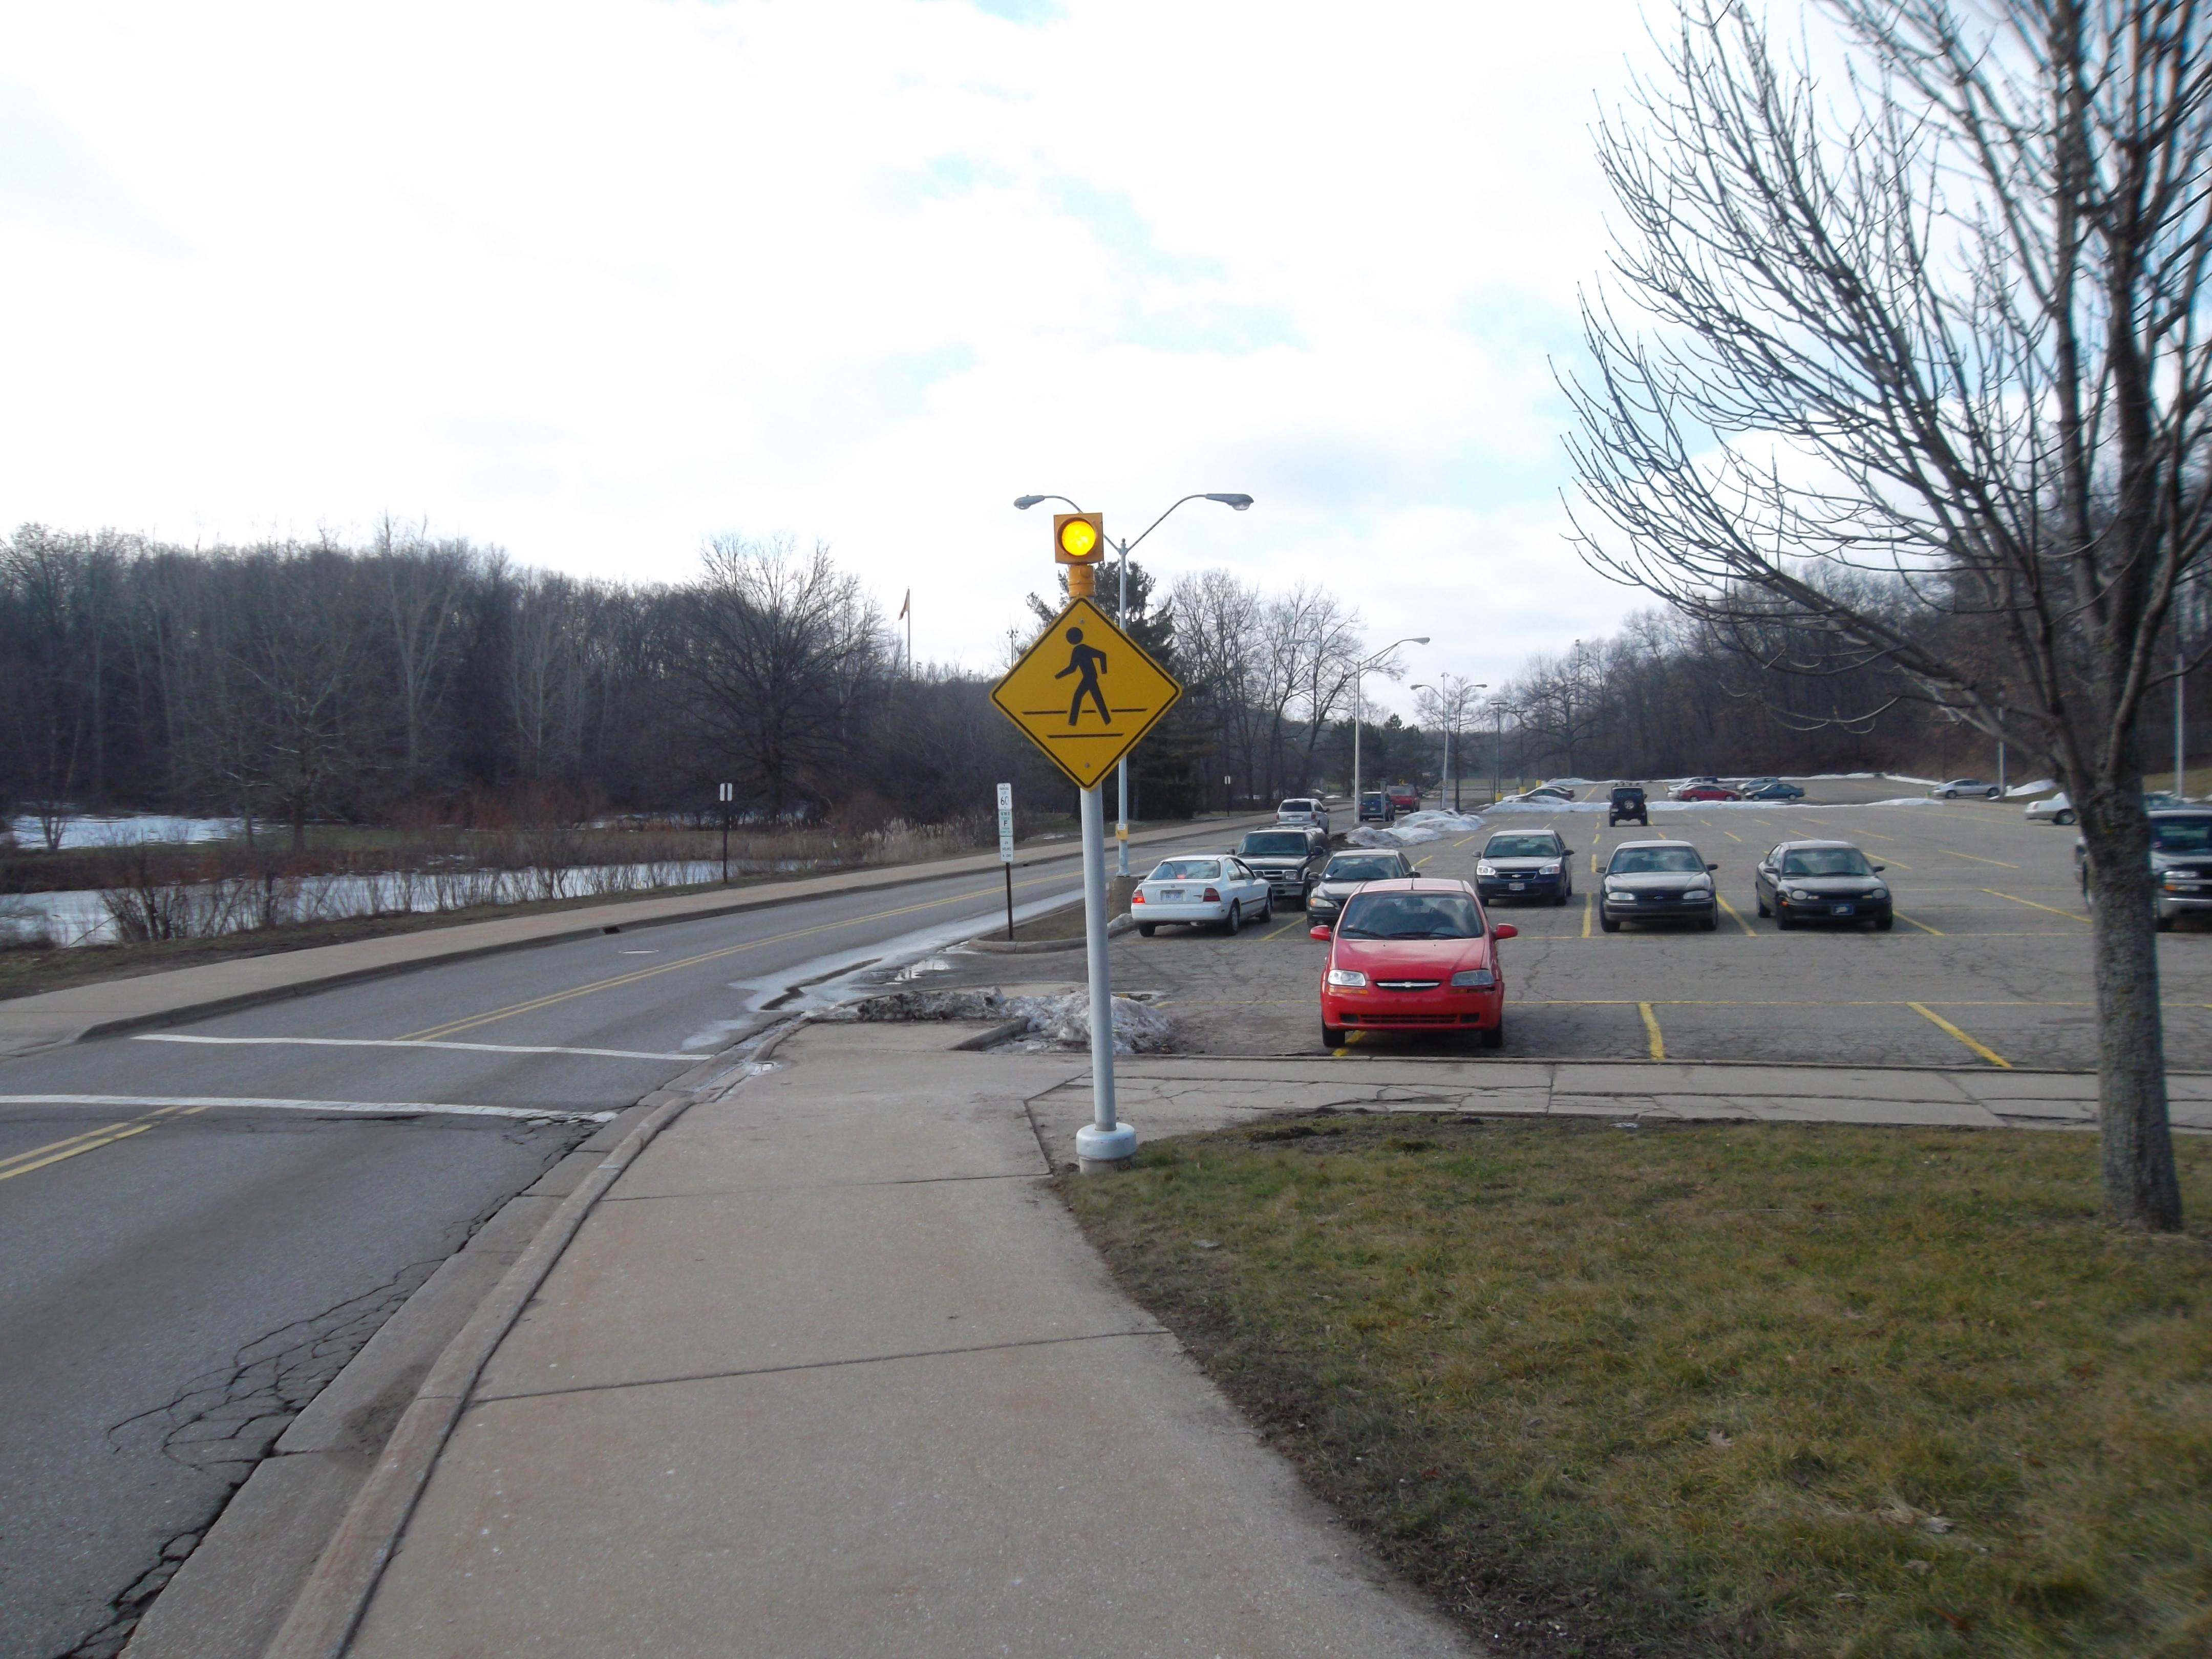warning: (989, 592, 1183, 793)
